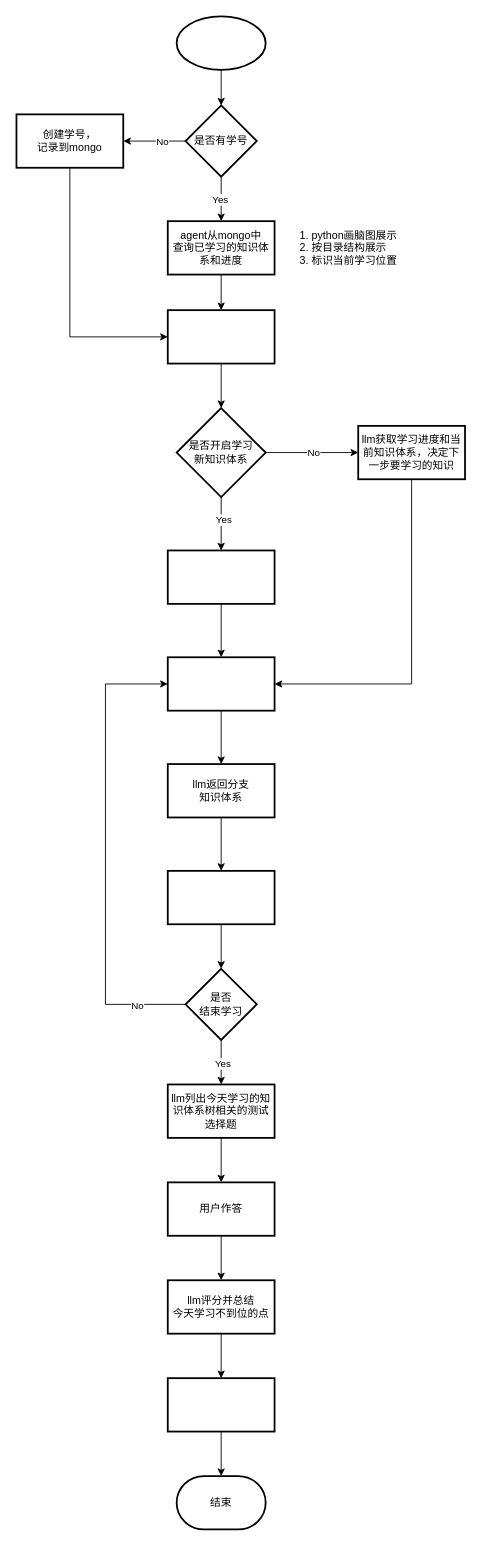
Some shapes in this 481 by 1545 pixel diagram are drawn without their labels. The shapes that lost their labels are listed below. From the top down, each one's centre as x and y in pixels, then its label:
[220,42]: agent提示输入学号
[220,336]: 用户选择继续学习哪个知识体系，或者开启一个新知识体系
[220,576]: llm根据用户输入，列出上帝视角要学习的知识体系
[220,683]: 用户选择深一层要 学习的分支
[220,897]: agent完善已学知识体系，记录到mongo
[220,1404]: agent记录本次学习的评分和总结
